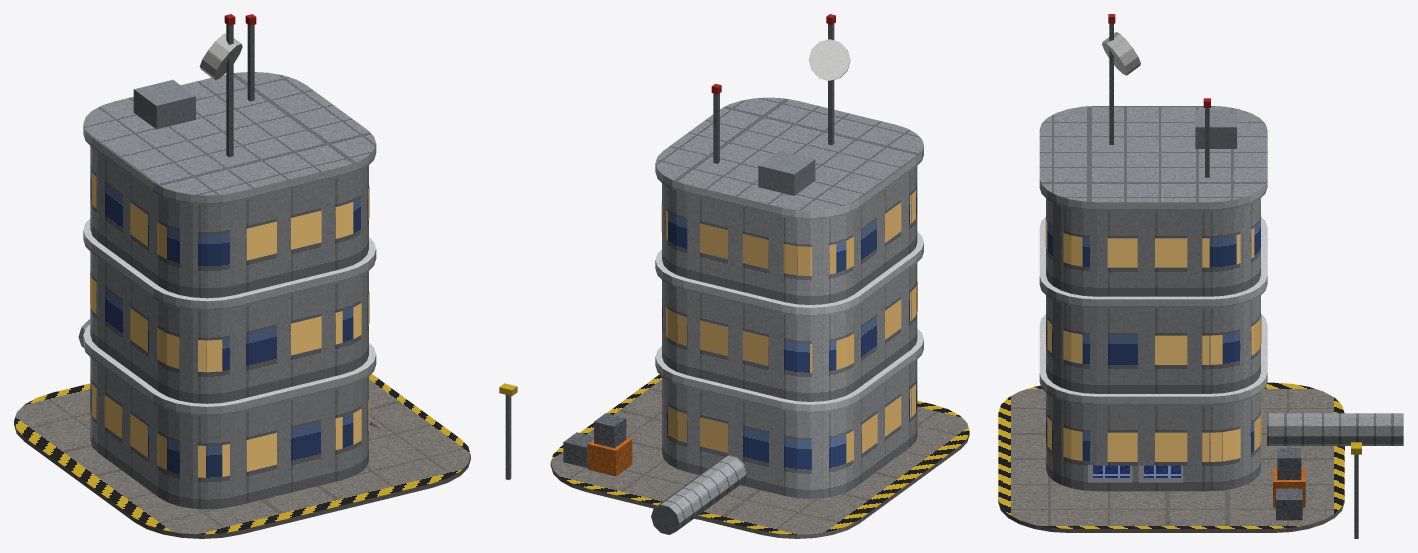
File: mars_2_inhab_kondominium_a.glb
3 renders of one model, left to right at view 1: azimuth 30°, elevation 25°; view 2: azimuth 150°, elevation 25°; view 3: azimuth 270°, elevation 25°, orthographic. The views are drawn at different scales.
Visible parts, largest first — view 1: inhab_kondominium_a, noc; view 2: inhab_kondominium_a, noc; view 3: inhab_kondominium_a, noc.
Boxes of the visible parts, box(x1,y1,x2,y2) form: inhab_kondominium_a: box(14, 14, 470, 538); noc: box(90, 172, 369, 477); inhab_kondominium_a: box(499, 14, 969, 538); noc: box(661, 190, 917, 463); inhab_kondominium_a: box(998, 14, 1403, 538); noc: box(1045, 218, 1261, 461).
Bounding box in the file's own units: 12.25 × 15.69 × 13.58.
1 material, 1 textured.
